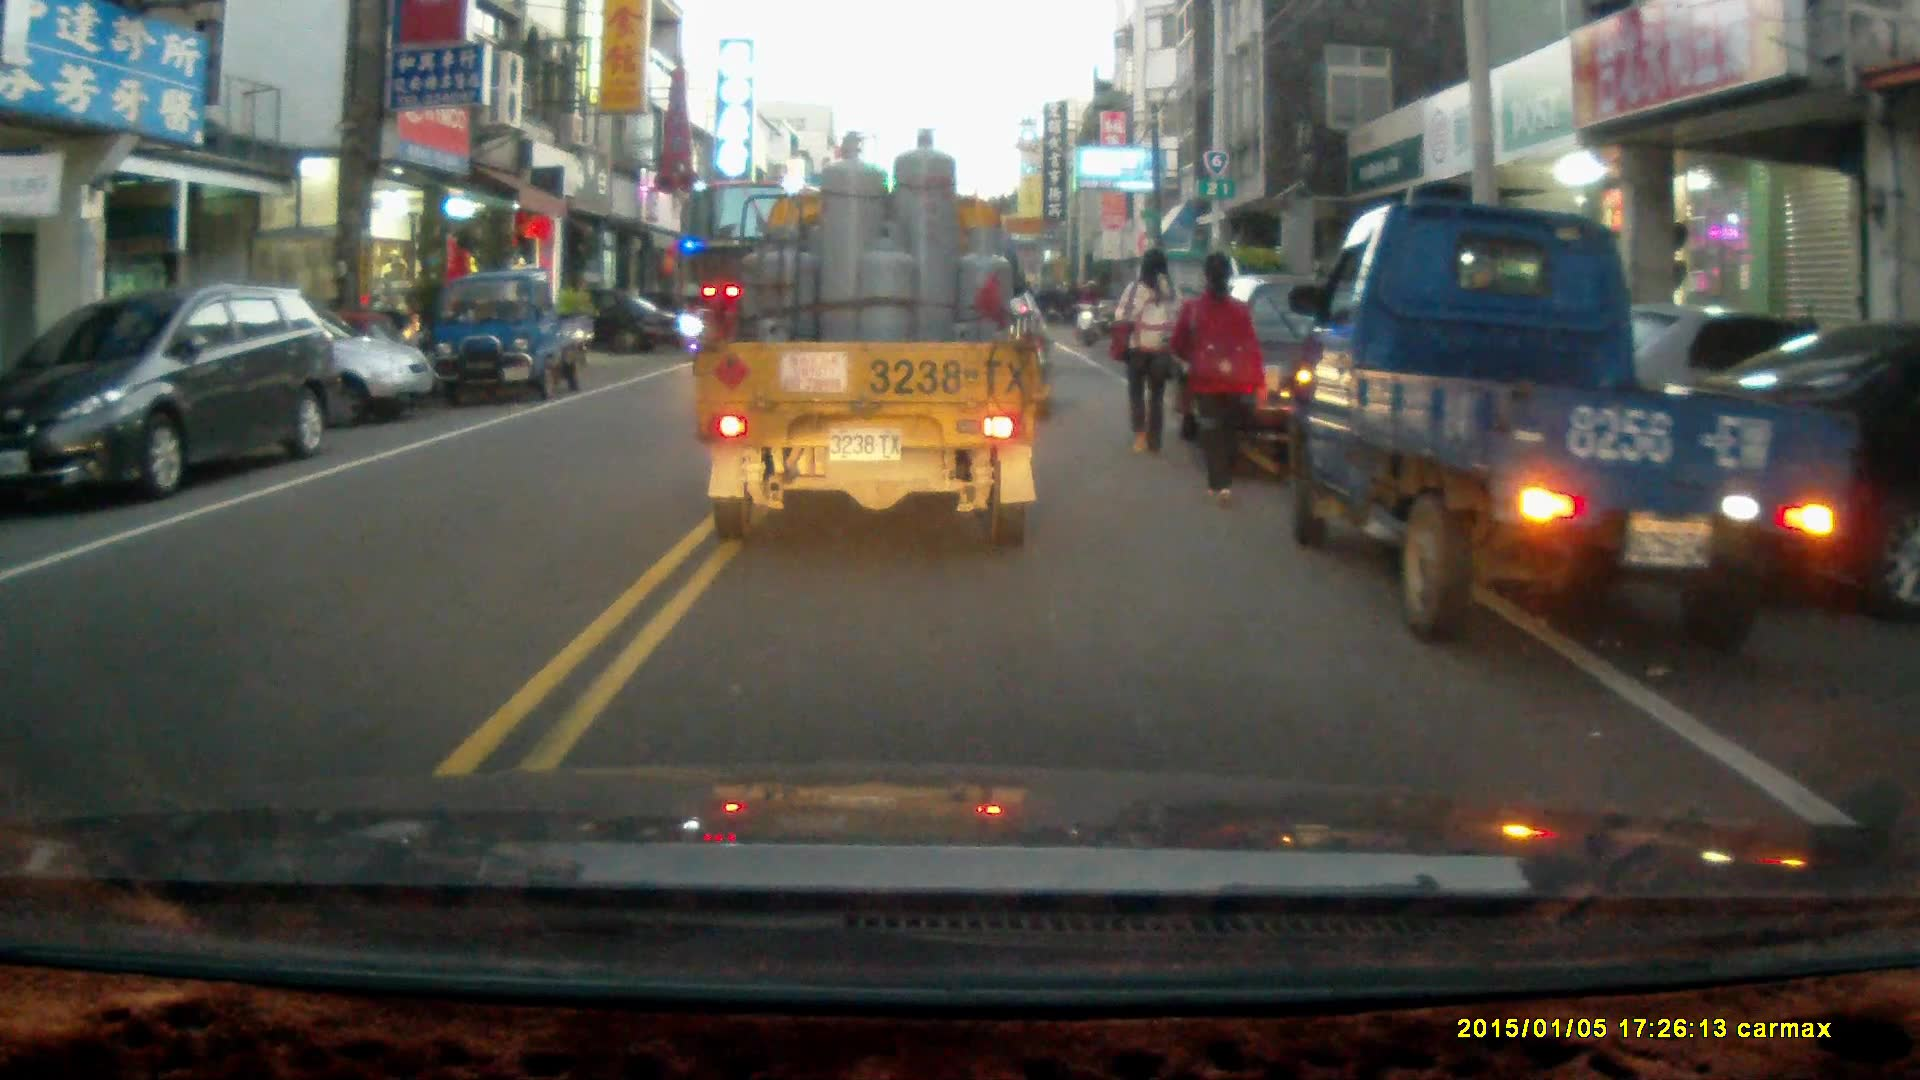pedestrian: (1168, 251, 1264, 506), (1107, 247, 1180, 461)
rider: (1073, 277, 1106, 346)
vehicle: (1289, 197, 1876, 664), (691, 126, 1043, 549), (3, 284, 343, 510), (1180, 275, 1445, 476), (128, 297, 440, 435), (675, 180, 881, 367), (431, 274, 588, 407)
